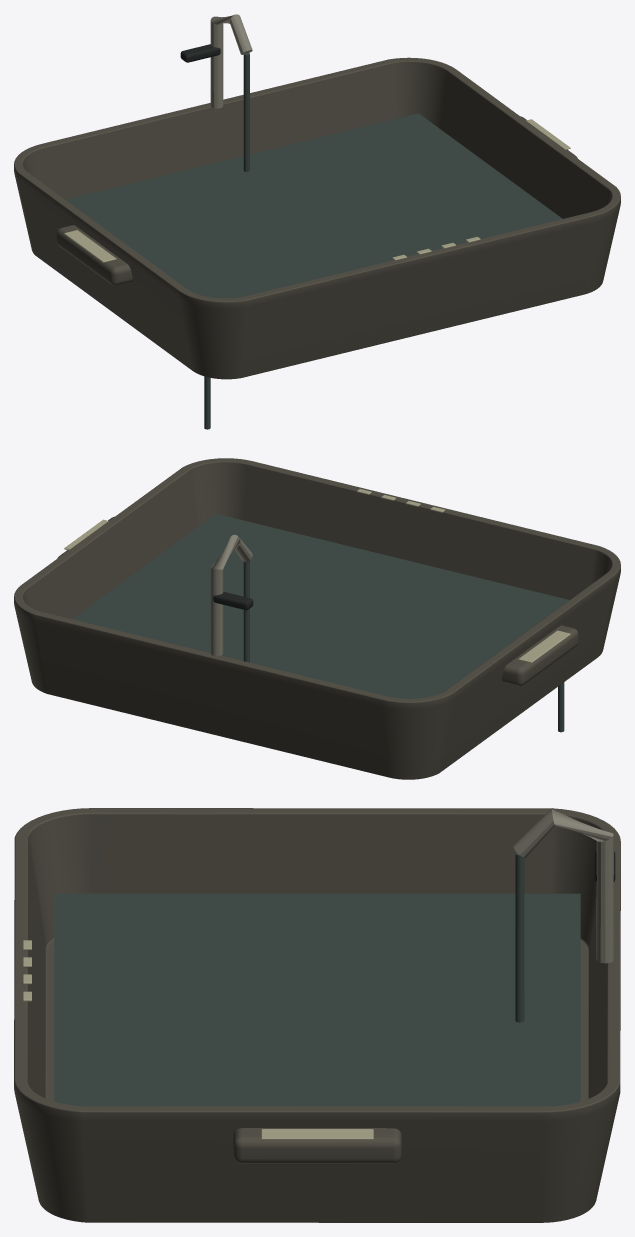
File: C10_WashTray.fbx
The picture shows the model from 3 angles, top to bottom: view 1: azimuth 30°, elevation 25°; view 2: azimuth 150°, elevation 25°; view 3: azimuth 270°, elevation 25°; orthographic projection. The views are drawn at different scales.
Visible parts, largest first — view 1: Body_Mesh, LiquidMesh, WashTap_Mesh, InletStream_Mesh; view 2: Body_Mesh, LiquidMesh, WashTap_Mesh, InletStream_Mesh, WashValve_Mesh; view 3: Body_Mesh, LiquidMesh, WashTap_Mesh, InletStream_Mesh.
Part boxes in pixels (x1=…): Body_Mesh: x1=14, y1=57, x2=620, y2=379; LiquidMesh: x1=65, y1=113, x2=562, y2=298; WashTap_Mesh: x1=210, y1=14, x2=252, y2=108; InletStream_Mesh: x1=243, y1=52, x2=249, y2=171; Body_Mesh: x1=14, y1=458, x2=620, y2=779; LiquidMesh: x1=72, y1=514, x2=569, y2=698; WashTap_Mesh: x1=210, y1=534, x2=252, y2=656; InletStream_Mesh: x1=243, y1=560, x2=249, y2=662; WashValve_Mesh: x1=213, y1=591, x2=253, y2=610; Body_Mesh: x1=14, y1=808, x2=620, y2=1222; LiquidMesh: x1=54, y1=893, x2=580, y2=1106; WashTap_Mesh: x1=513, y1=808, x2=614, y2=963; InletStream_Mesh: x1=515, y1=852, x2=524, y2=1022.
Size of the model in its own units: 0.344 by 0.1839 by 0.27.
